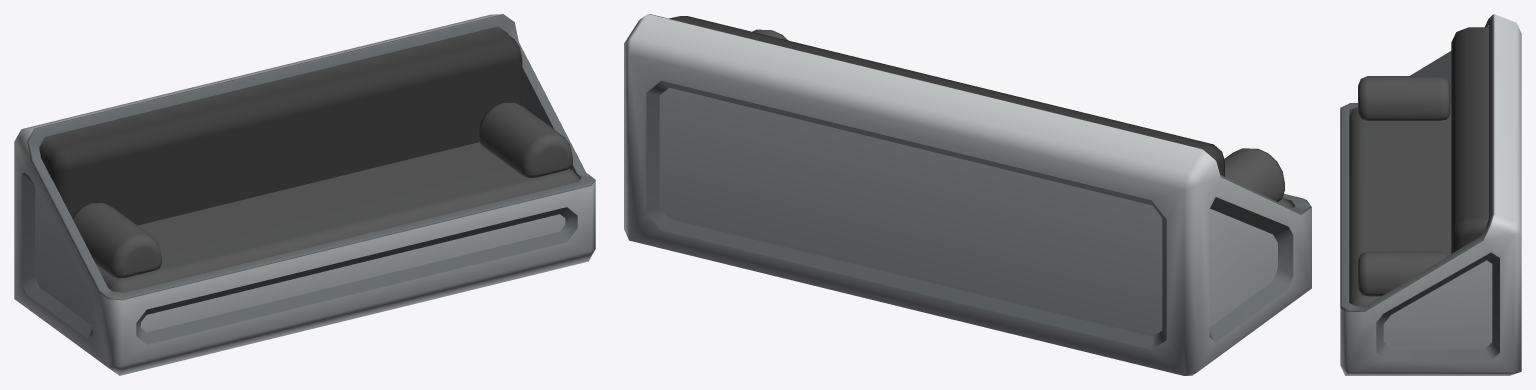
Rendered from Sofa_001.glb.
3 renders of one model, left to right at view 1: azimuth 30°, elevation 25°; view 2: azimuth 150°, elevation 25°; view 3: azimuth 270°, elevation 25°, orthographic. The views are drawn at different scales.
Parts seen in each view (by area): view 1: Sofa_001; view 2: Sofa_001; view 3: Sofa_001.
Part boxes in pixels (left/top/right/bottom): Sofa_001: left=14, top=14, right=595, bottom=375; Sofa_001: left=624, top=14, right=1311, bottom=375; Sofa_001: left=1340, top=14, right=1521, bottom=375.
Size of the model in its own units: 2.32 by 0.8432 by 0.8572.
Materials: 1 (1 with a texture image).
